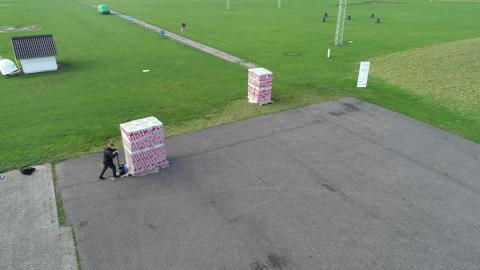RockwoolPallet: (120, 117, 171, 168)
